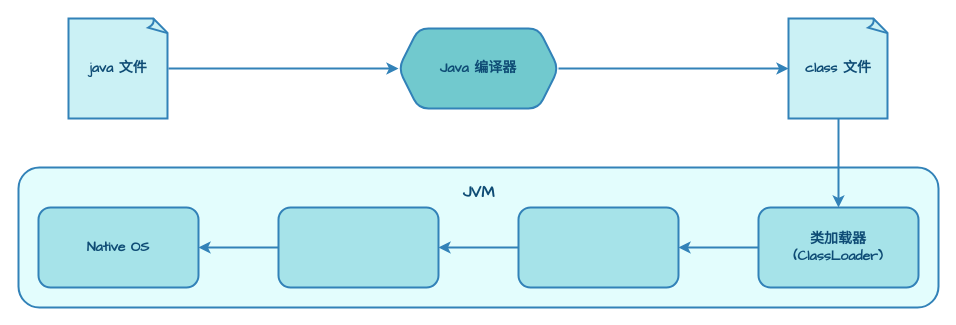
Some shapes in this 956 by 325 pixel diagram are drawn without their labels. Here are the shapes that lost their labels. From the top down, the box of each, then its label:
(277, 206, 439, 288): Java 运行时环境
(517, 206, 679, 288): 字节码校验器 (ByteCode Verifer)
